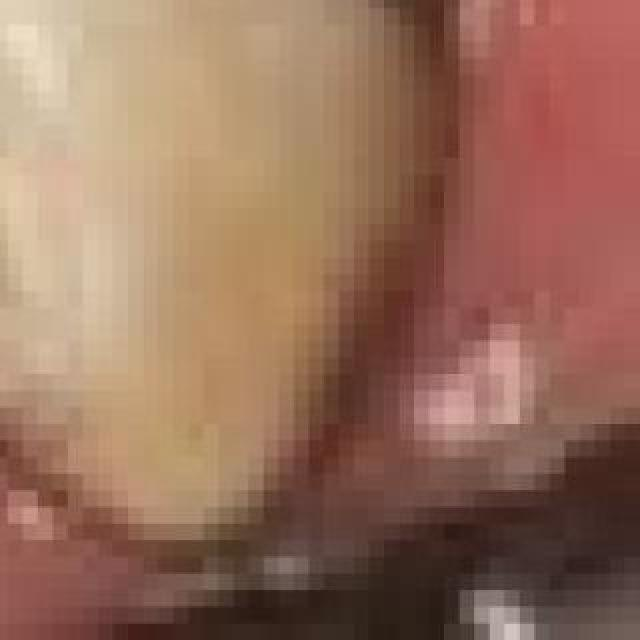cavities: (0, 0, 492, 582)
